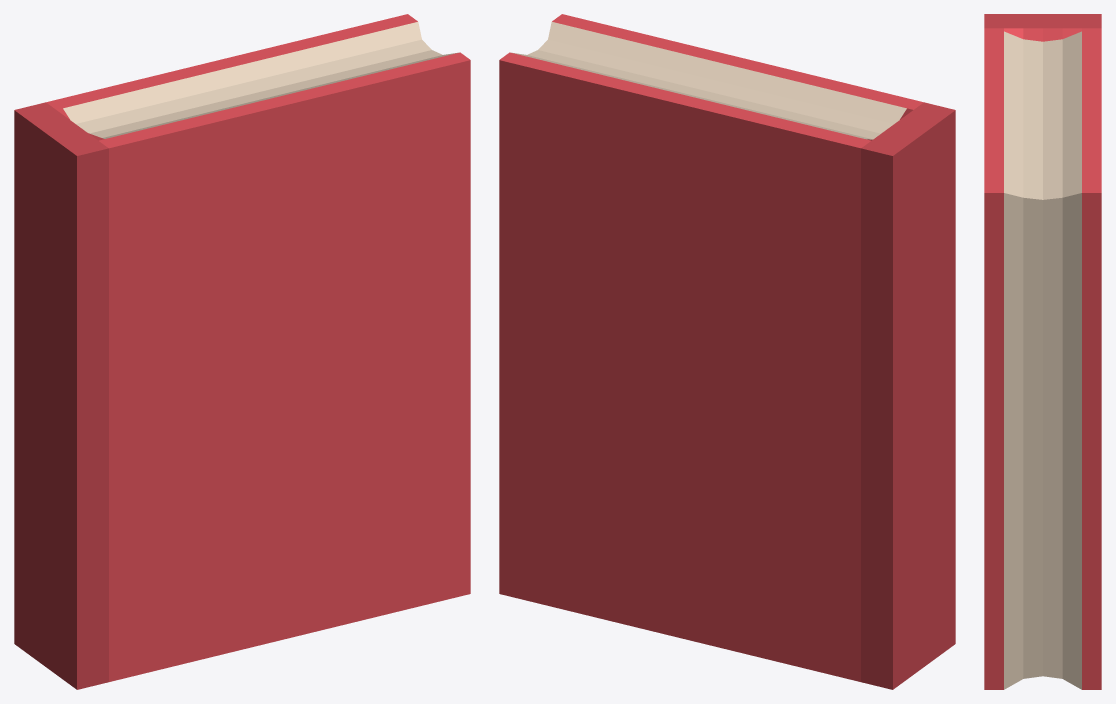
File: Book.fbx
The picture shows the model from 3 angles, left to right: view 1: azimuth 30°, elevation 25°; view 2: azimuth 150°, elevation 25°; view 3: azimuth 270°, elevation 25°; orthographic projection. The views are drawn at different scales.
Parts seen in each view (by area): view 1: Book; view 2: Book; view 3: Book.
Boxes of the visible parts, x1=… form: Book: x1=14, y1=14, x2=470, y2=689; Book: x1=499, y1=14, x2=955, y2=689; Book: x1=984, y1=14, x2=1101, y2=689.
Bounding box in the file's own units: 23.64 × 30.63 × 6.55.
